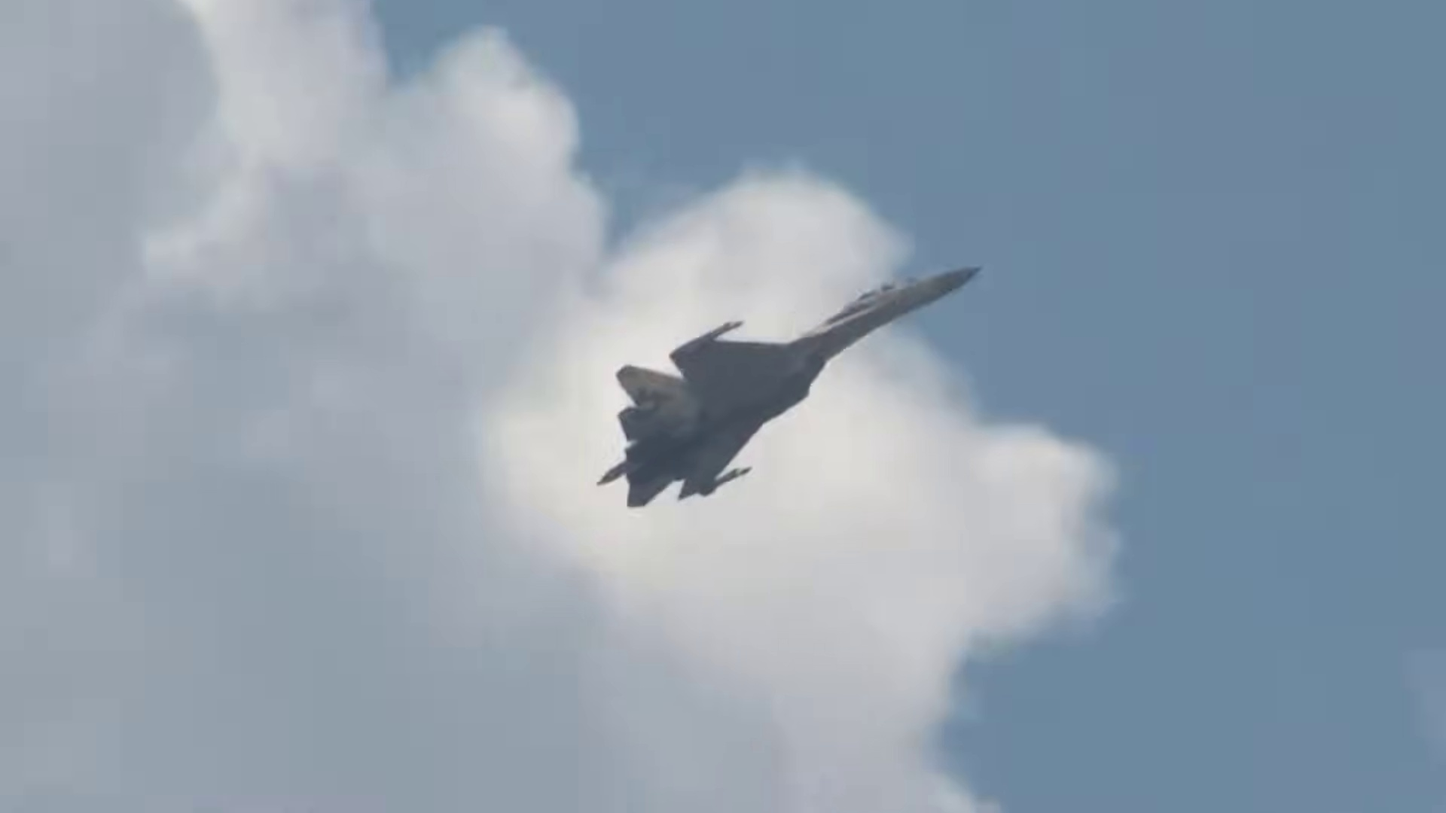Su35: (587, 257, 988, 518)
